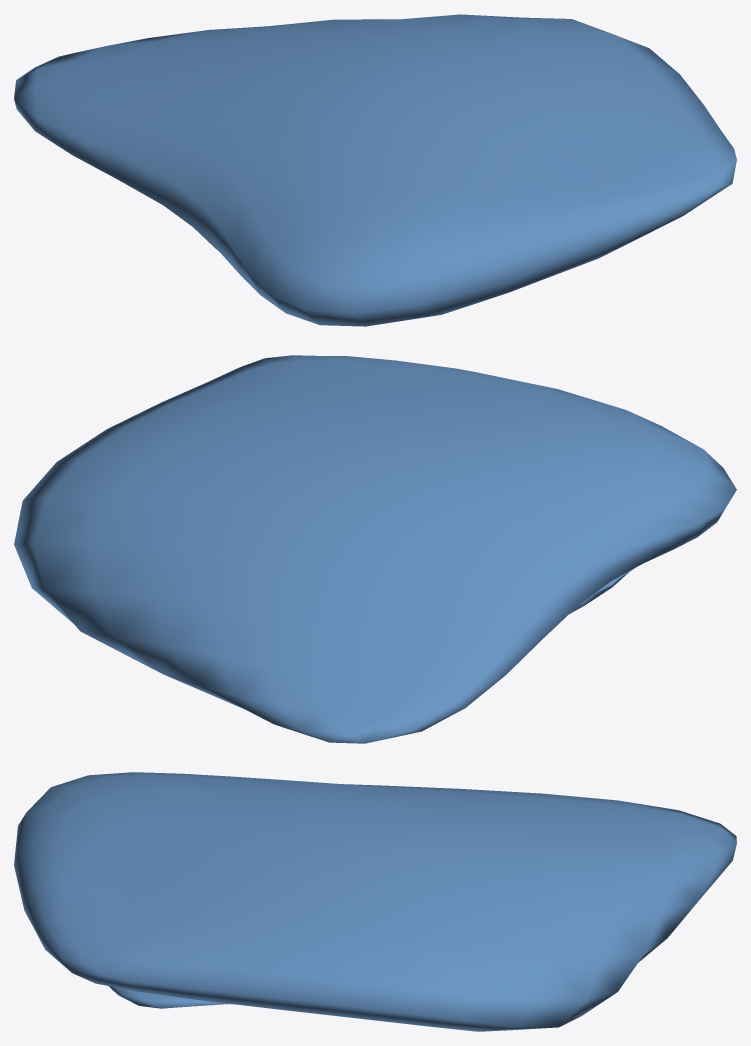
The model's file is ice_piese.fbx.
3 views of the same model, one above another, from view 1: azimuth 30°, elevation 25°; view 2: azimuth 150°, elevation 25°; view 3: azimuth 270°, elevation 25° (orthographic). The views are drawn at different scales.
Parts seen in each view (by area): view 1: Plane; view 2: Plane; view 3: Plane.
Part boxes in pixels (x1=…): Plane: x1=14, y1=14, x2=736, y2=326; Plane: x1=14, y1=355, x2=736, y2=743; Plane: x1=14, y1=772, x2=736, y2=1031.
Size of the model in its own units: 692 by 159 by 847.
